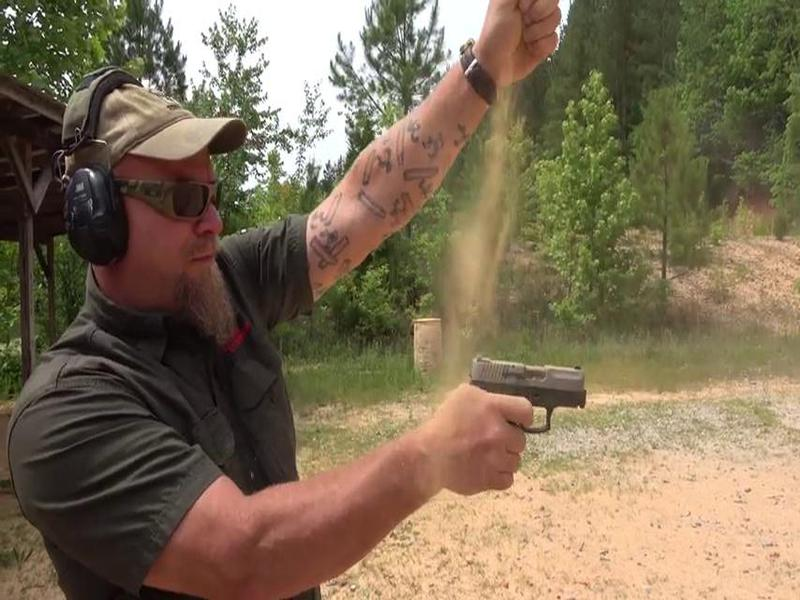Pistola: (442, 333, 628, 461)
